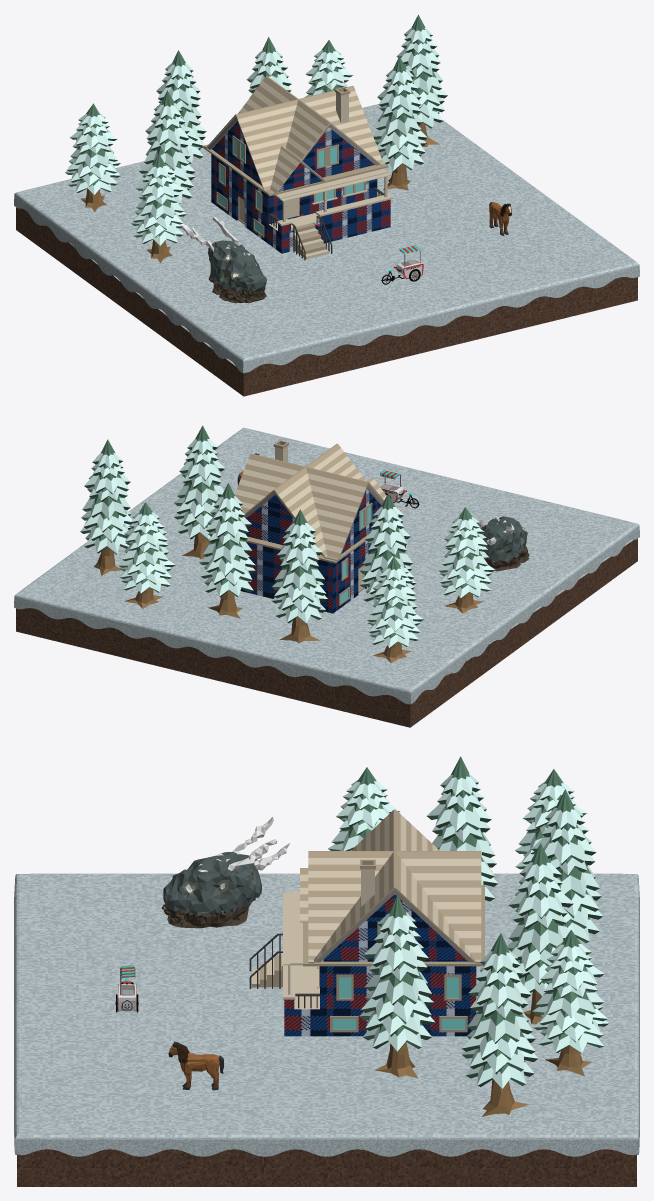
3 views of the same model, one above another, from view 1: azimuth 30°, elevation 25°; view 2: azimuth 150°, elevation 25°; view 3: azimuth 270°, elevation 25° (orthographic). The views are drawn at different scales.
Parts seen in each view (by area): view 1: Cube.003, Cube.171, OBJRANDOM_METEORITE, VEHICLES_SNOWBAL_BIKE, ANIMAL_CABALLO; view 2: Cube.003, Cube.171, OBJRANDOM_METEORITE, VEHICLES_SNOWBAL_BIKE; view 3: Cube.003, Cube.171, OBJRANDOM_METEORITE, ANIMAL_CABALLO, VEHICLES_SNOWBAL_BIKE.
Boxes of the visible parts, x1,y1,x2,y2 form: Cube.003: (14,14,639,396); Cube.171: (202,76,393,260); OBJRANDOM_METEORITE: (181,216,266,303); VEHICLES_SNOWBAL_BIKE: (381,245,423,284); ANIMAL_CABALLO: (489,202,511,235); Cube.003: (14,425,639,727); Cube.171: (234,440,405,613); OBJRANDOM_METEORITE: (477,516,529,571); VEHICLES_SNOWBAL_BIKE: (379,470,419,508); Cube.003: (14,756,639,1186); Cube.171: (249,809,484,1036); OBJRANDOM_METEORITE: (161,817,289,928); ANIMAL_CABALLO: (168,1041,223,1090); VEHICLES_SNOWBAL_BIKE: (115,965,138,1012).
Bounding box in the file's own units: 4040 × 1715 × 4040.
Materials: 32 (5 with a texture image).
